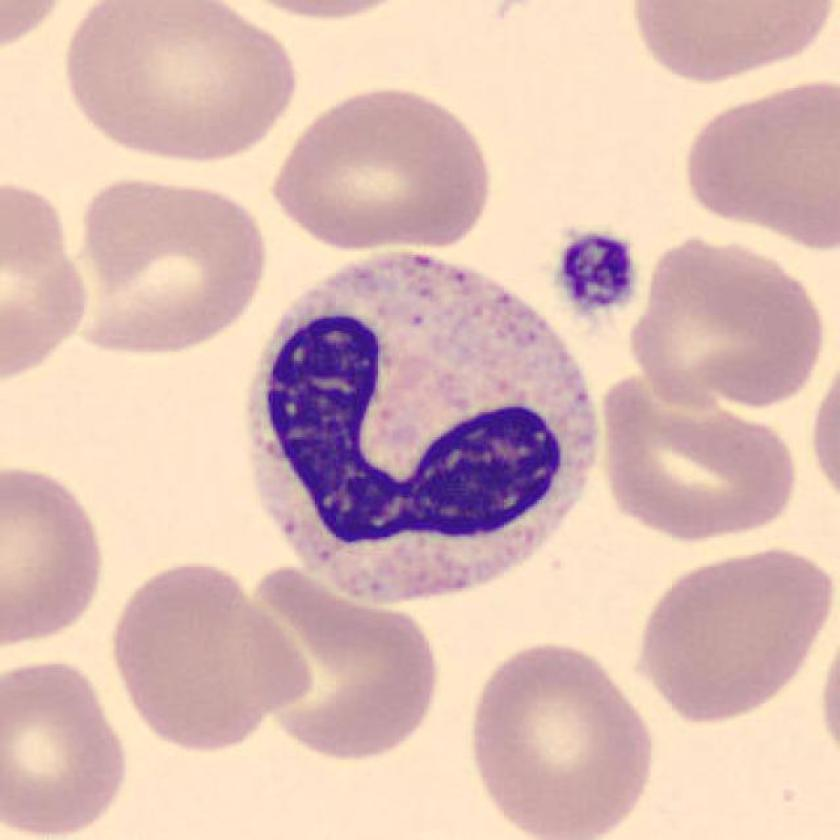neutrophil: (248, 260, 596, 602)
